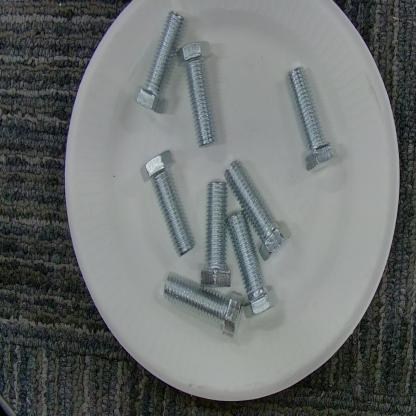FOD: (138, 149, 289, 344), (133, 4, 222, 146), (280, 61, 349, 183)
